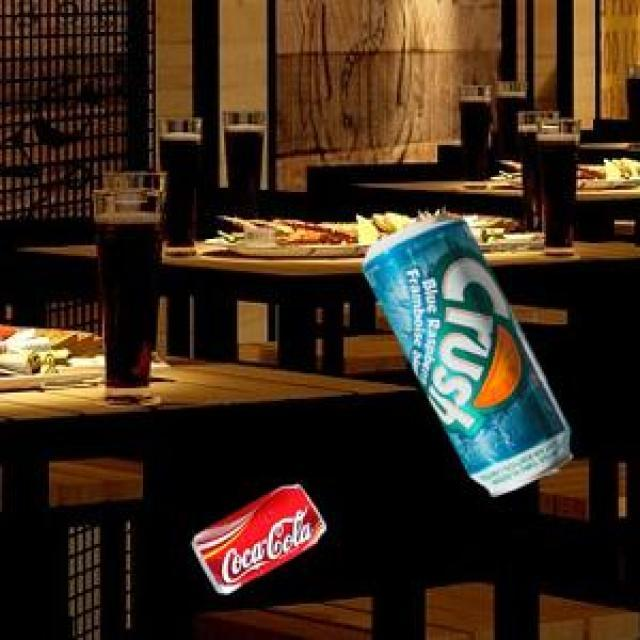Can: (359, 210, 569, 492), (189, 481, 323, 590)
